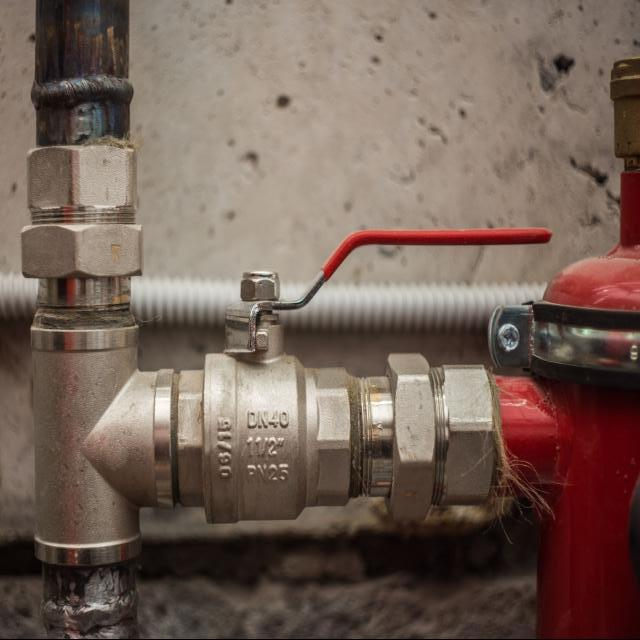opened valve: (178, 217, 560, 533)
